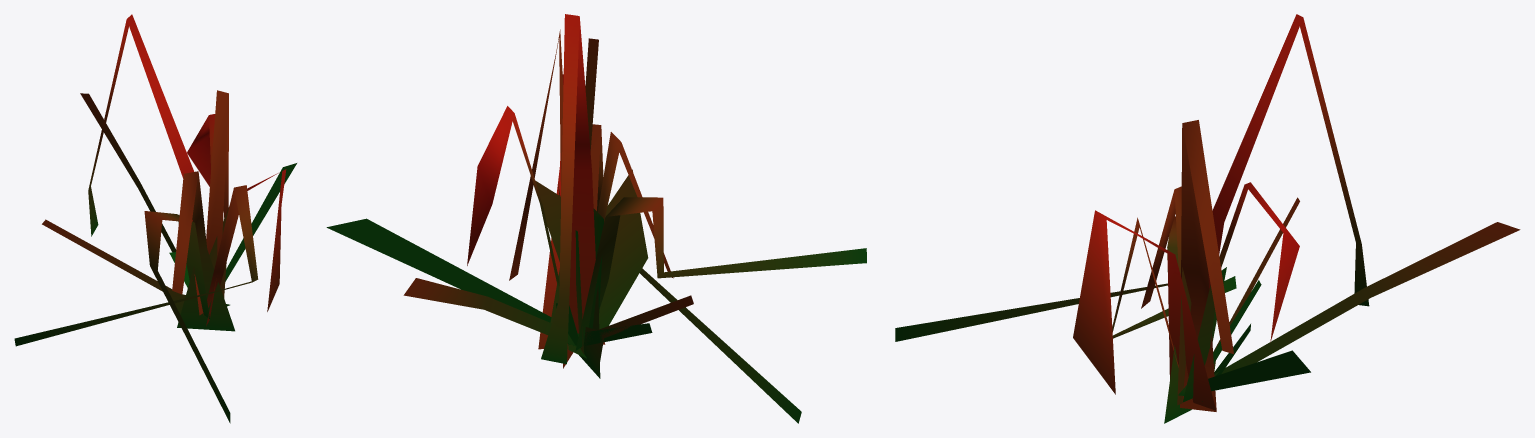
File: scpho_Var3_LOD0.fbx
3 views of the same model, side by side, from view 1: azimuth 30°, elevation 25°; view 2: azimuth 150°, elevation 25°; view 3: azimuth 270°, elevation 25° (orthographic). The views are drawn at different scales.
Parts seen in each view (by area): view 1: _d2b7_Var3_LOD0; view 2: _d2b7_Var3_LOD0; view 3: _d2b7_Var3_LOD0.
Boxes of the visible parts, bbox=[...] form: _d2b7_Var3_LOD0: bbox=[14, 14, 296, 423]; _d2b7_Var3_LOD0: bbox=[326, 14, 866, 423]; _d2b7_Var3_LOD0: bbox=[895, 14, 1520, 423].
Bounding box in the file's own units: 13.17 × 11.7 × 17.64.
